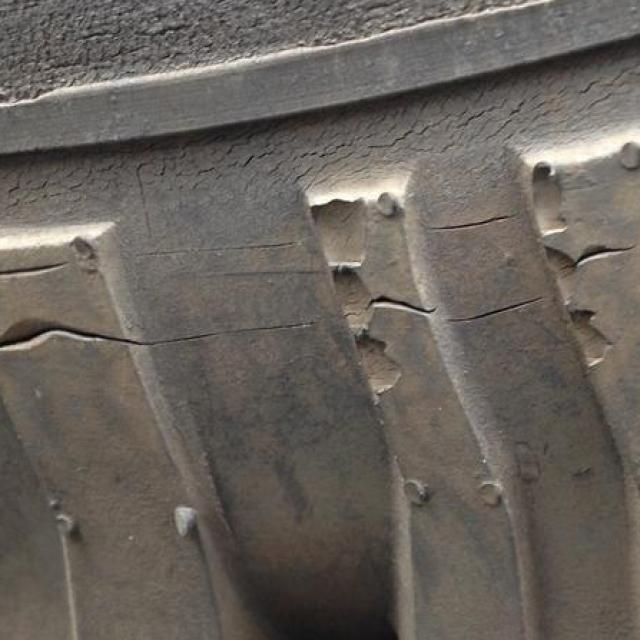Cracks: (1, 0, 640, 388)
